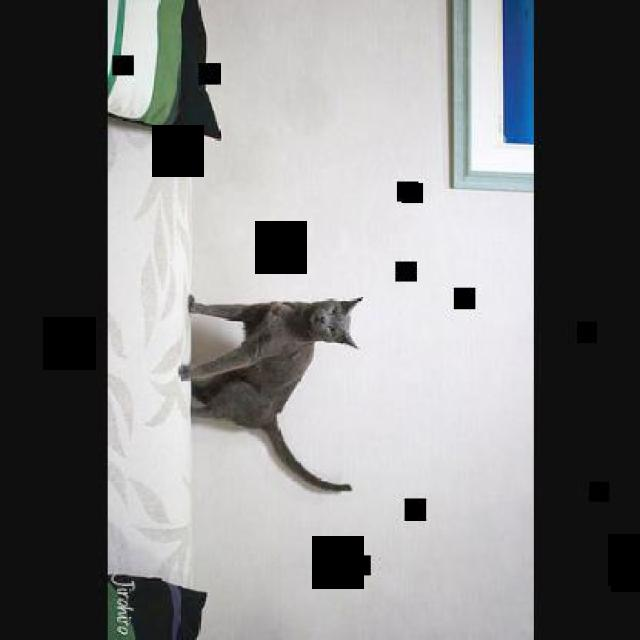unauthorized: (177, 292, 363, 494)
